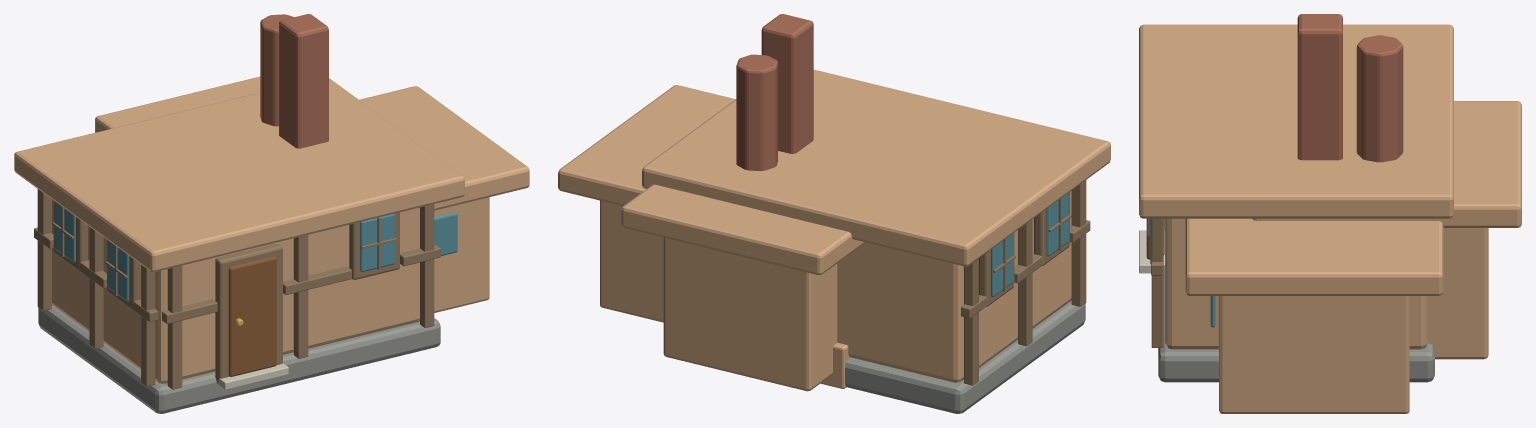
File: arid-cottage-5.glb
3 renders of one model, left to right at view 1: azimuth 30°, elevation 25°; view 2: azimuth 150°, elevation 25°; view 3: azimuth 270°, elevation 25°, orthographic. The views are drawn at different scales.
Parts seen in each view (by area): view 1: Adobe cream, Adobe plaster, Palm beams, Foundation stone, Chimney brick, Door oak, Adobe fieldstone, Blue glass, Cut limestone; view 2: Adobe cream, Adobe fieldstone, Adobe plaster, Chimney brick, Palm beams, Foundation stone, Blue glass, Adobe wood; view 3: Adobe cream, Adobe fieldstone, Chimney brick, Adobe plaster, Foundation stone, Palm beams, Cut limestone.
Part boxes in pixels (<box>): Adobe cream: <box>14,76,529,272</box>; Adobe plaster: <box>52,199,419,383</box>; Palm beams: <box>34,189,440,389</box>; Foundation stone: <box>38,305,440,413</box>; Chimney brick: <box>260,14,328,148</box>; Door oak: <box>228,256,276,376</box>; Adobe fieldstone: <box>434,197,489,312</box>; Blue glass: <box>54,201,457,301</box>; Cut limestone: <box>214,363,288,389</box>; Adobe cream: <box>558,69,1110,275</box>; Adobe fieldstone: <box>600,200,837,391</box>; Adobe plaster: <box>837,191,1071,382</box>; Chimney brick: <box>736,14,813,170</box>; Palm beams: <box>961,180,1090,385</box>; Foundation stone: <box>845,300,1085,413</box>; Blue glass: <box>991,193,1068,296</box>; Adobe wood: <box>820,342,850,388</box>; Adobe cream: <box>1139,24,1521,295</box>; Adobe fieldstone: <box>1219,228,1488,413</box>; Chimney brick: <box>1297,14,1403,162</box>; Adobe plaster: <box>1165,218,1427,349</box>; Foundation stone: <box>1158,219,1434,382</box>; Palm beams: <box>1147,218,1164,347</box>; Cut limestone: <box>1139,230,1164,273</box>.
Bounding box in the file's own units: 4.38 × 3.02 × 3.21.
